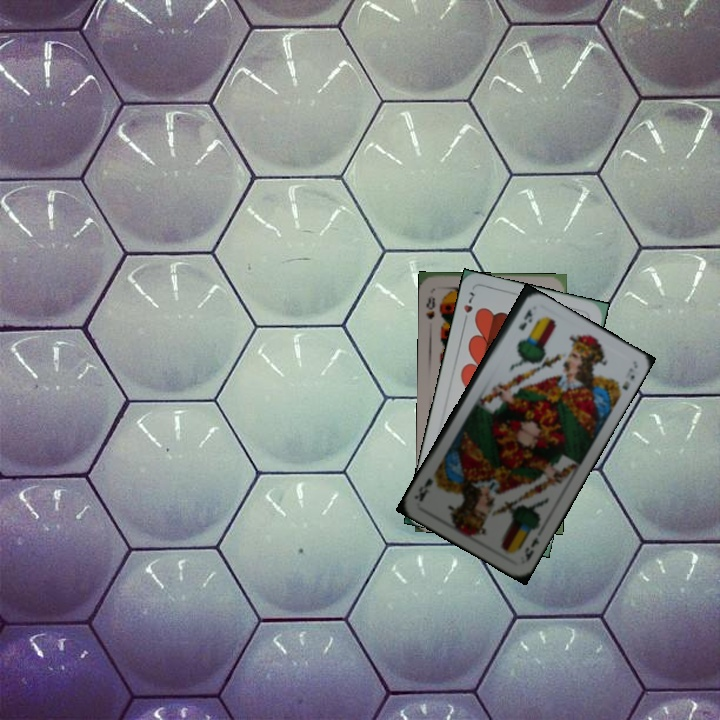EK: (520, 532, 542, 565), (514, 305, 535, 333)
H7: (459, 288, 477, 327)
S8: (422, 292, 438, 322)
